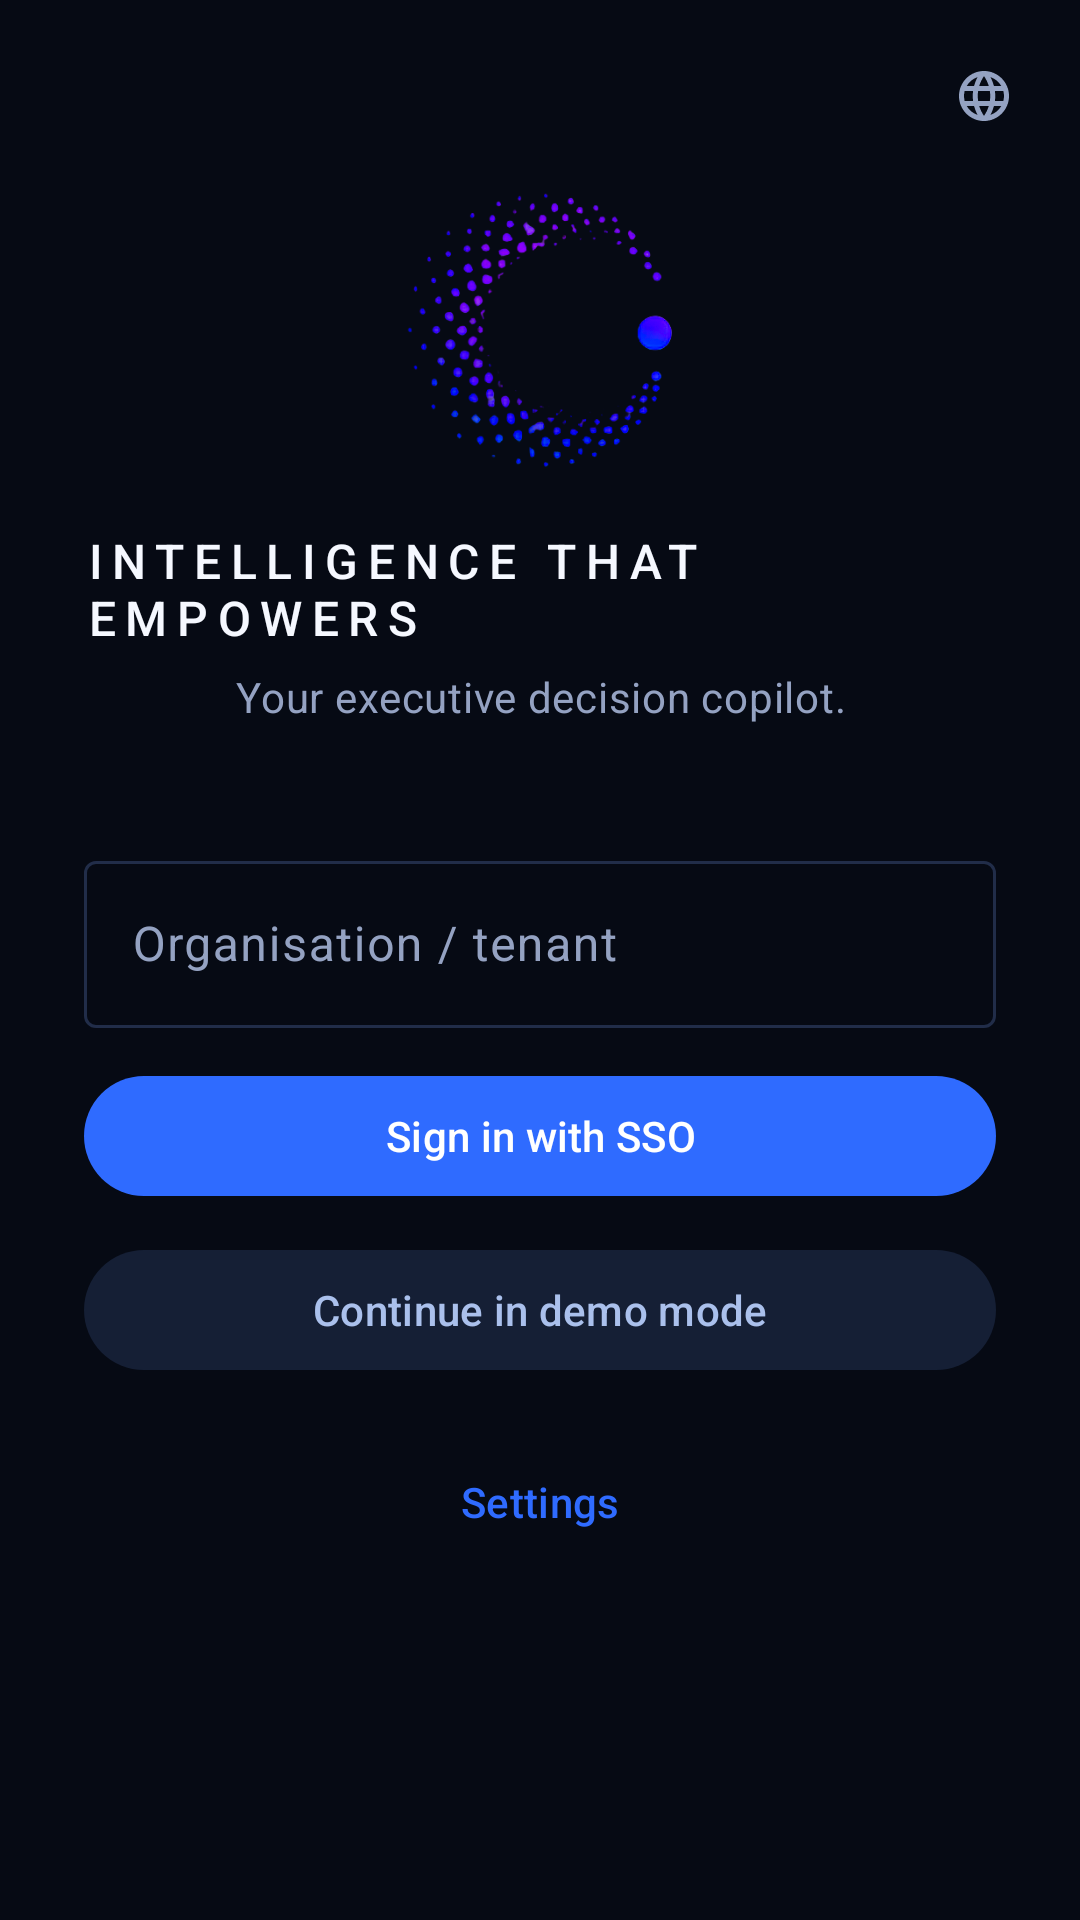

Icons on this 1080px×1920px Android screen, each with the point to tap as [x,y]:
Language (English / 日本語): [984,96]
